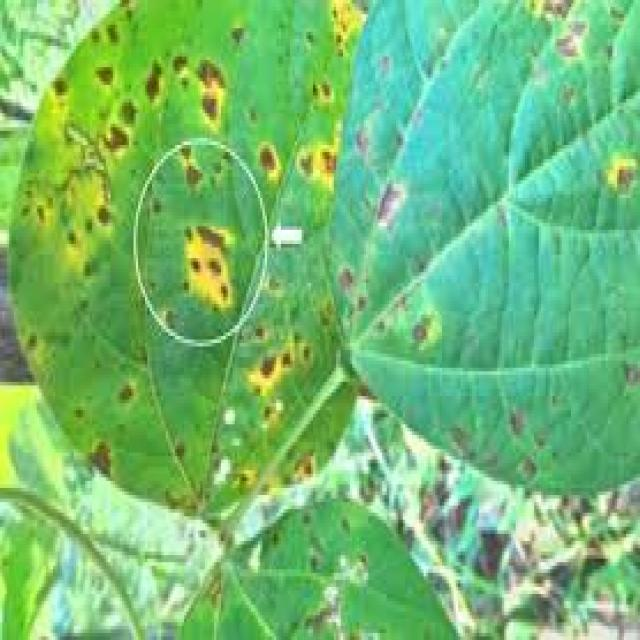bercak_daun: (131, 108, 279, 430)
